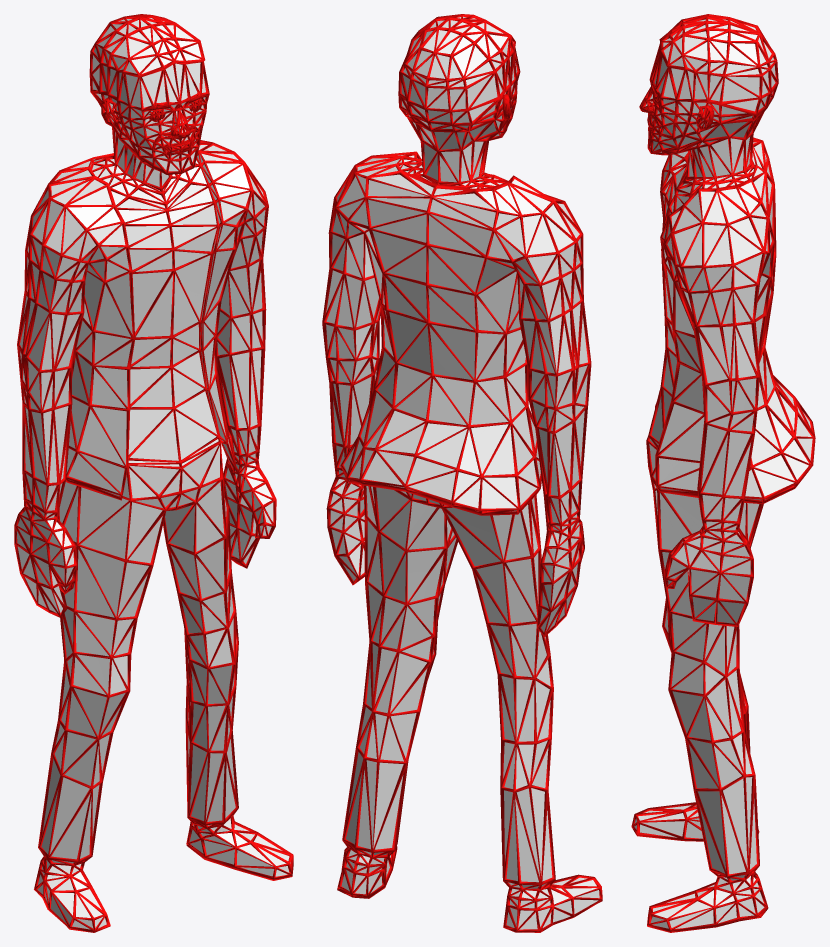
Rendered from elegantIdle_000026.obj.
The picture shows the model from 3 angles, left to right: view 1: azimuth 30°, elevation 25°; view 2: azimuth 150°, elevation 25°; view 3: azimuth 270°, elevation 25°; orthographic projection. The views are drawn at different scales.
Parts seen in each view (by area): view 1: BaseHuman_Cylinder.002; view 2: BaseHuman_Cylinder.002; view 3: BaseHuman_Cylinder.002.
Part boxes in pixels (x1=…): BaseHuman_Cylinder.002: x1=14, y1=14, x2=293, y2=932; BaseHuman_Cylinder.002: x1=322, y1=14, x2=602, y2=932; BaseHuman_Cylinder.002: x1=631, y1=14, x2=815, y2=932.
Bounding box in the file's own units: 1.44 × 4.84 × 0.9476.
